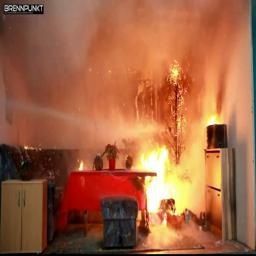fire: (131, 130, 198, 236)
